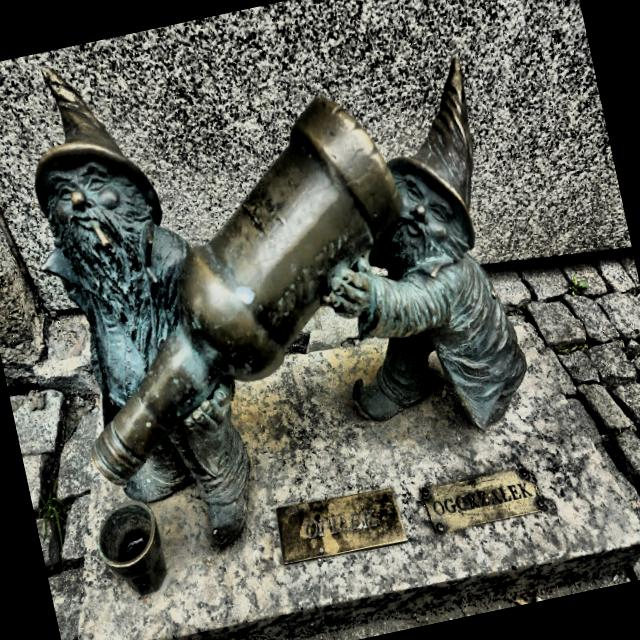Ogorzalek_i_Opilek: (36, 60, 526, 544)
